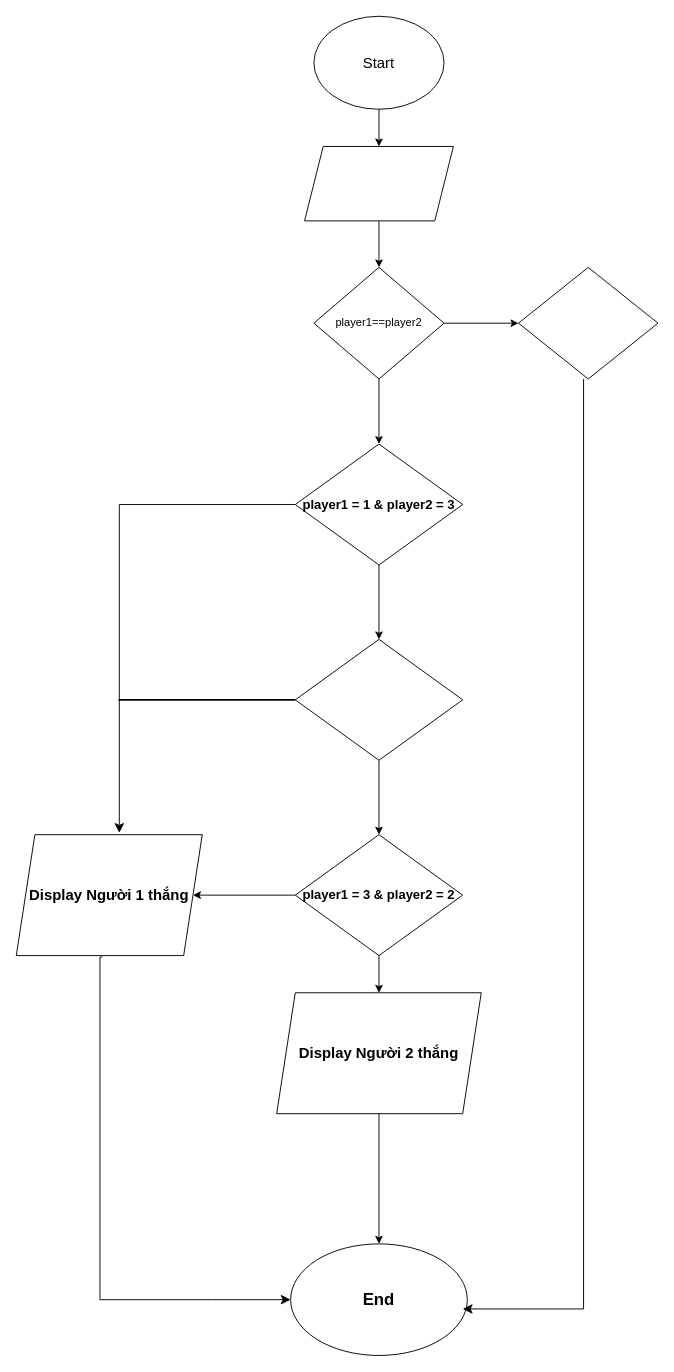
This 674x1372 diagram has some shape labels left out. The shapes that lost their labels are listed below. From the top down, each one's centre as x and y in pixels, then its label:
At (378,183): "Input player1, player2".
At (588,322): "Hòa nhau".
At (378,699): "player1 = 2 & player2 = 1".
